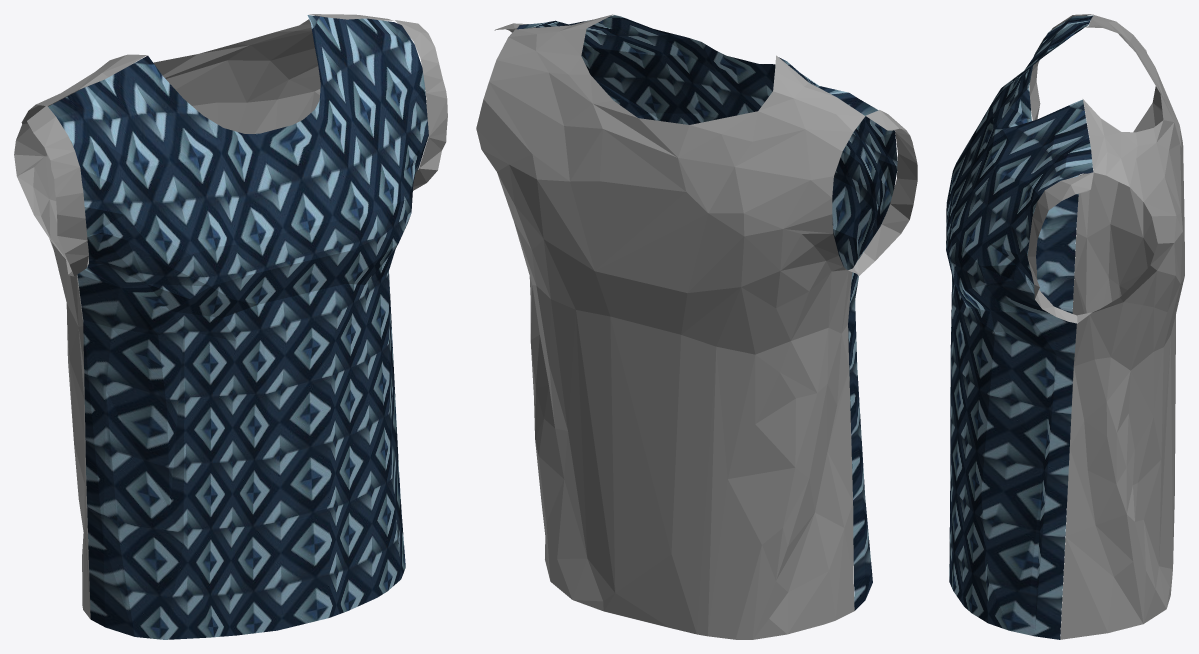
3 views of the same model, side by side, from view 1: azimuth 30°, elevation 25°; view 2: azimuth 150°, elevation 25°; view 3: azimuth 270°, elevation 25° (orthographic). The views are drawn at different scales.
Visible parts, largest first — view 1: T_shirt; view 2: T_shirt; view 3: T_shirt.
Boxes of the visible parts, x1,y1,x2,y2 form: T_shirt: (14,14,447,639); T_shirt: (476,14,917,639); T_shirt: (946,14,1184,639).
Size of the model in its own units: 0.2935 by 0.3892 by 0.1639.
2 materials, 1 textured.
